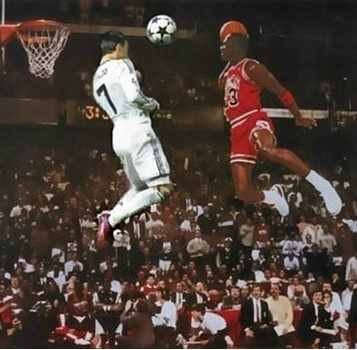basket: (13, 17, 75, 83)
dunk: (199, 12, 346, 226)
